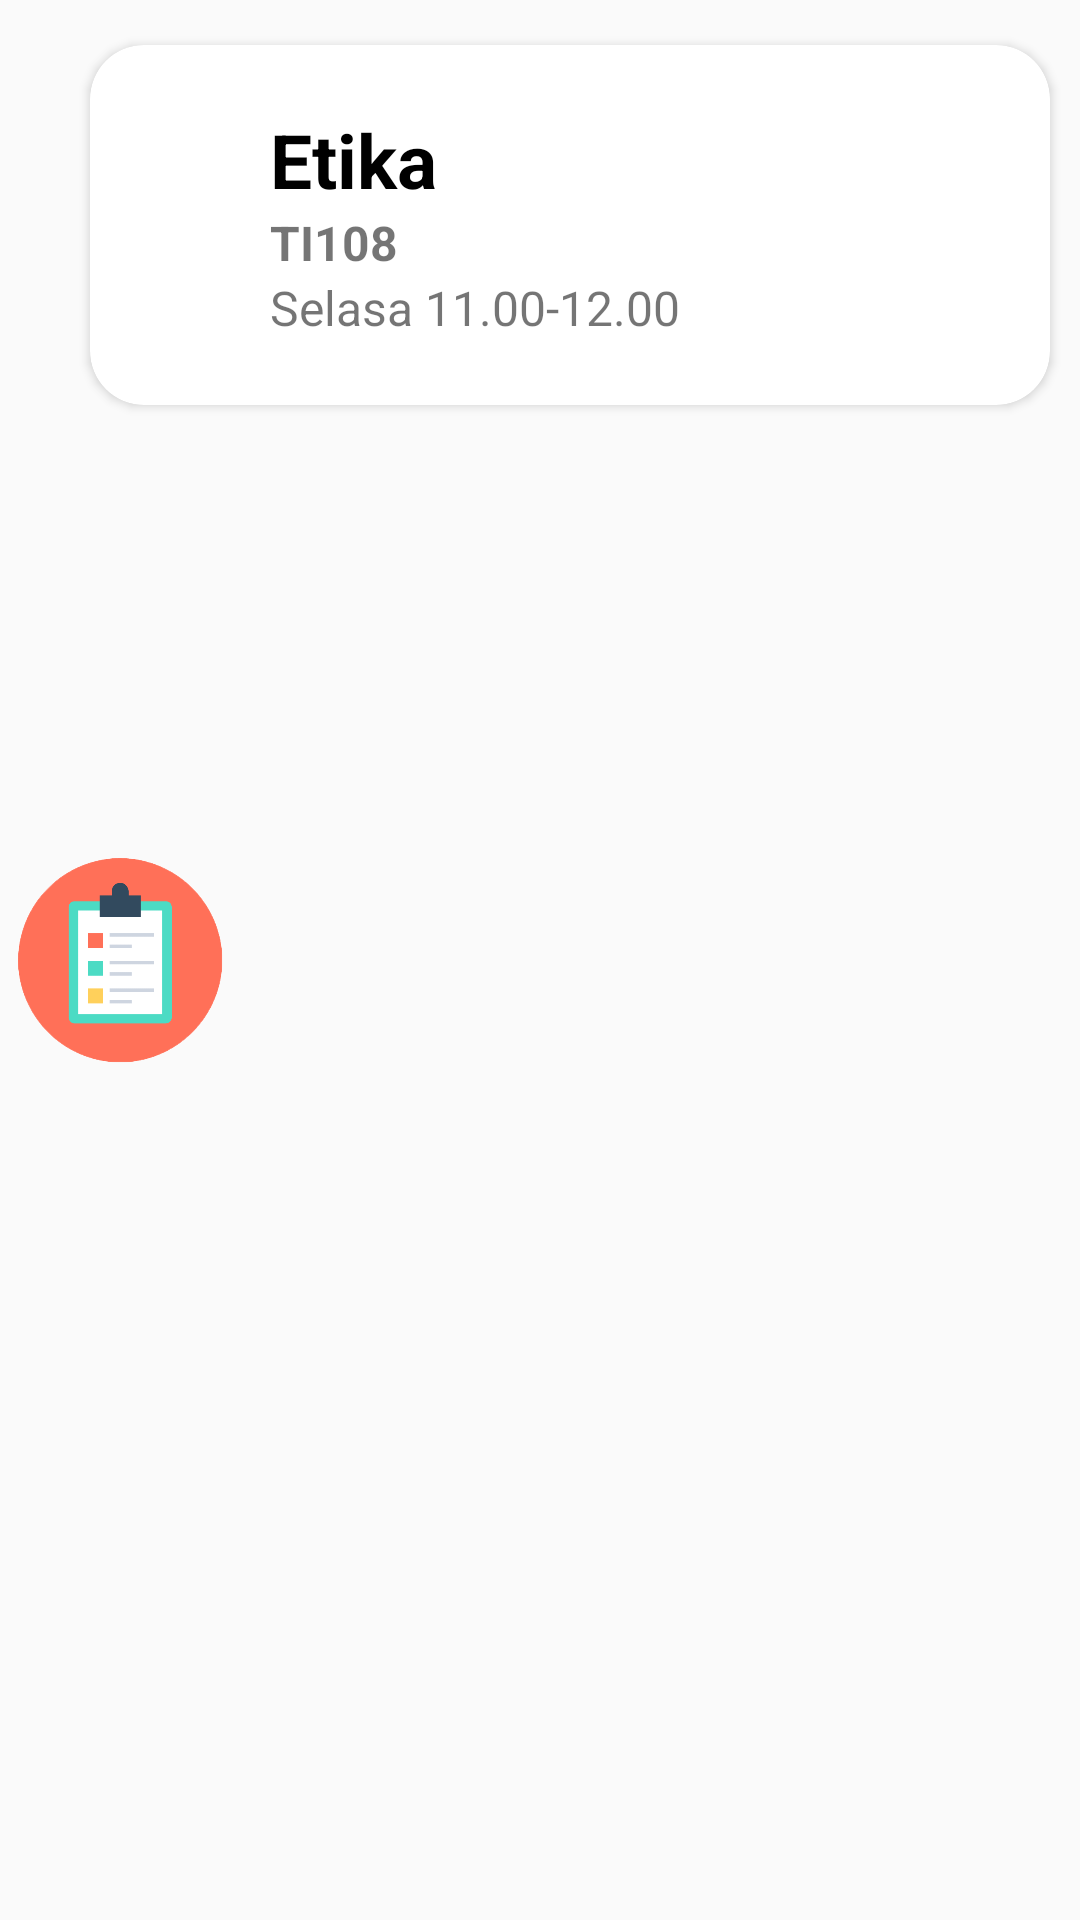

Icons on this 1080x1920 Android screen, each with the point to tap as (x=x, y=y):
task: (x=120, y=960)
